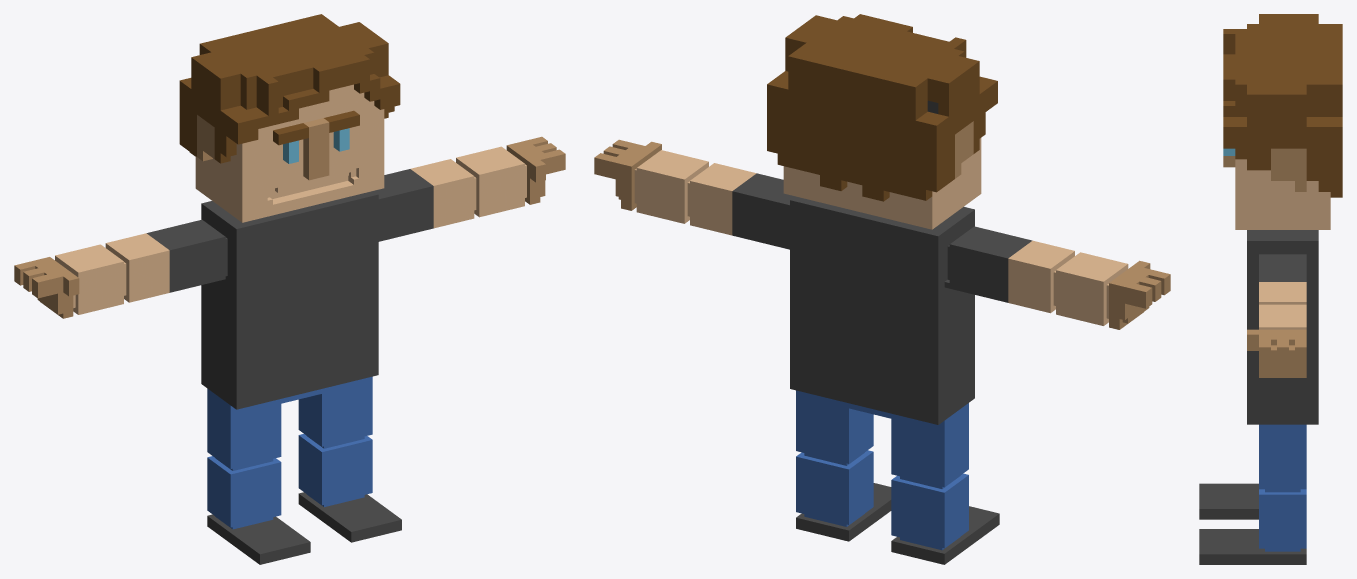
File: Voxel Character Male.glb
3 views of the same model, side by side, from view 1: azimuth 30°, elevation 25°; view 2: azimuth 150°, elevation 25°; view 3: azimuth 270°, elevation 25° (orthographic). The views are drawn at different scales.
Visible parts, largest first — view 1: chr_01; view 2: chr_01; view 3: chr_01.
Part boxes in pixels (bbox=[...]): chr_01: bbox=[14, 14, 565, 564]; chr_01: bbox=[594, 14, 1170, 564]; chr_01: bbox=[1199, 14, 1342, 564].
Size of the model in its own units: 104 by 88 by 24.
1 material, 1 textured.
